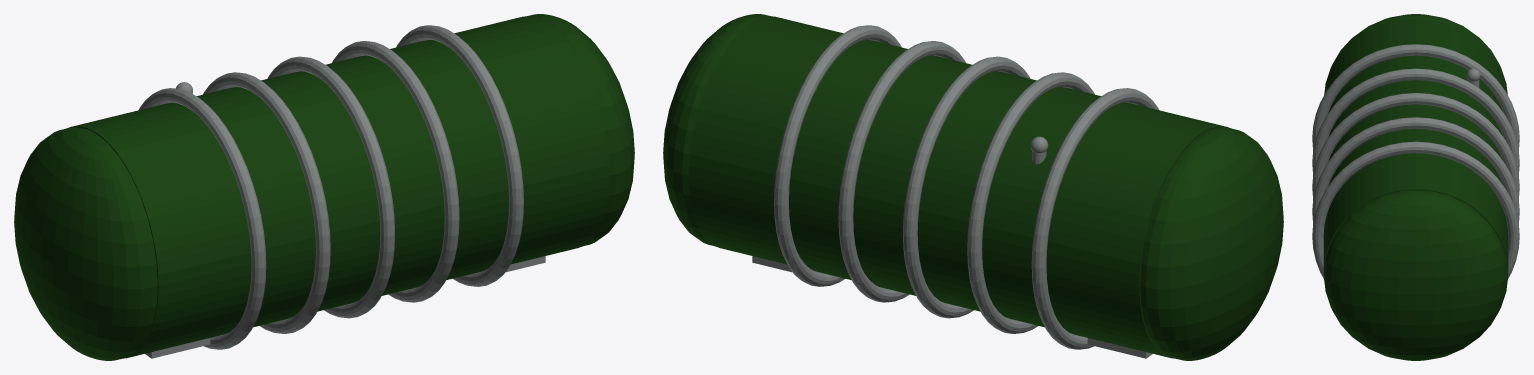
File: tanqueQuimico.fbx
The picture shows the model from 3 angles, left to right: view 1: azimuth 30°, elevation 25°; view 2: azimuth 150°, elevation 25°; view 3: azimuth 270°, elevation 25°; orthographic projection. The views are drawn at different scales.
Visible parts, largest first — view 1: Tank_End_Right, Vent_Pipe; view 2: Tank_End_Right, Vent_Pipe; view 3: Tank_End_Right, Vent_Pipe.
Part boxes in pixels (x1,y1,x2,y2): Tank_End_Right: (14, 14, 634, 360); Vent_Pipe: (139, 25, 545, 358); Tank_End_Right: (663, 14, 1283, 360); Vent_Pipe: (752, 25, 1158, 358); Tank_End_Right: (1323, 14, 1508, 360); Vent_Pipe: (1312, 44, 1519, 278).
Size of the model in its own units: 440 by 180 by 180.
Materials: 2 (2 with a texture image).
